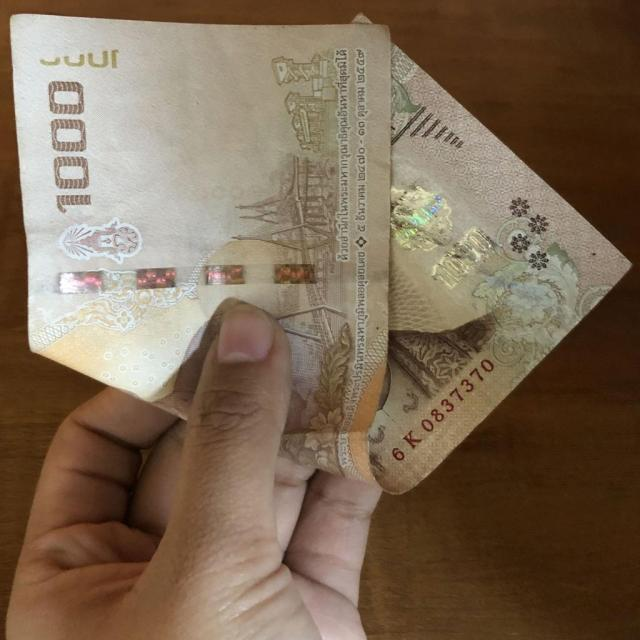THAI1000: (11, 14, 629, 494)
